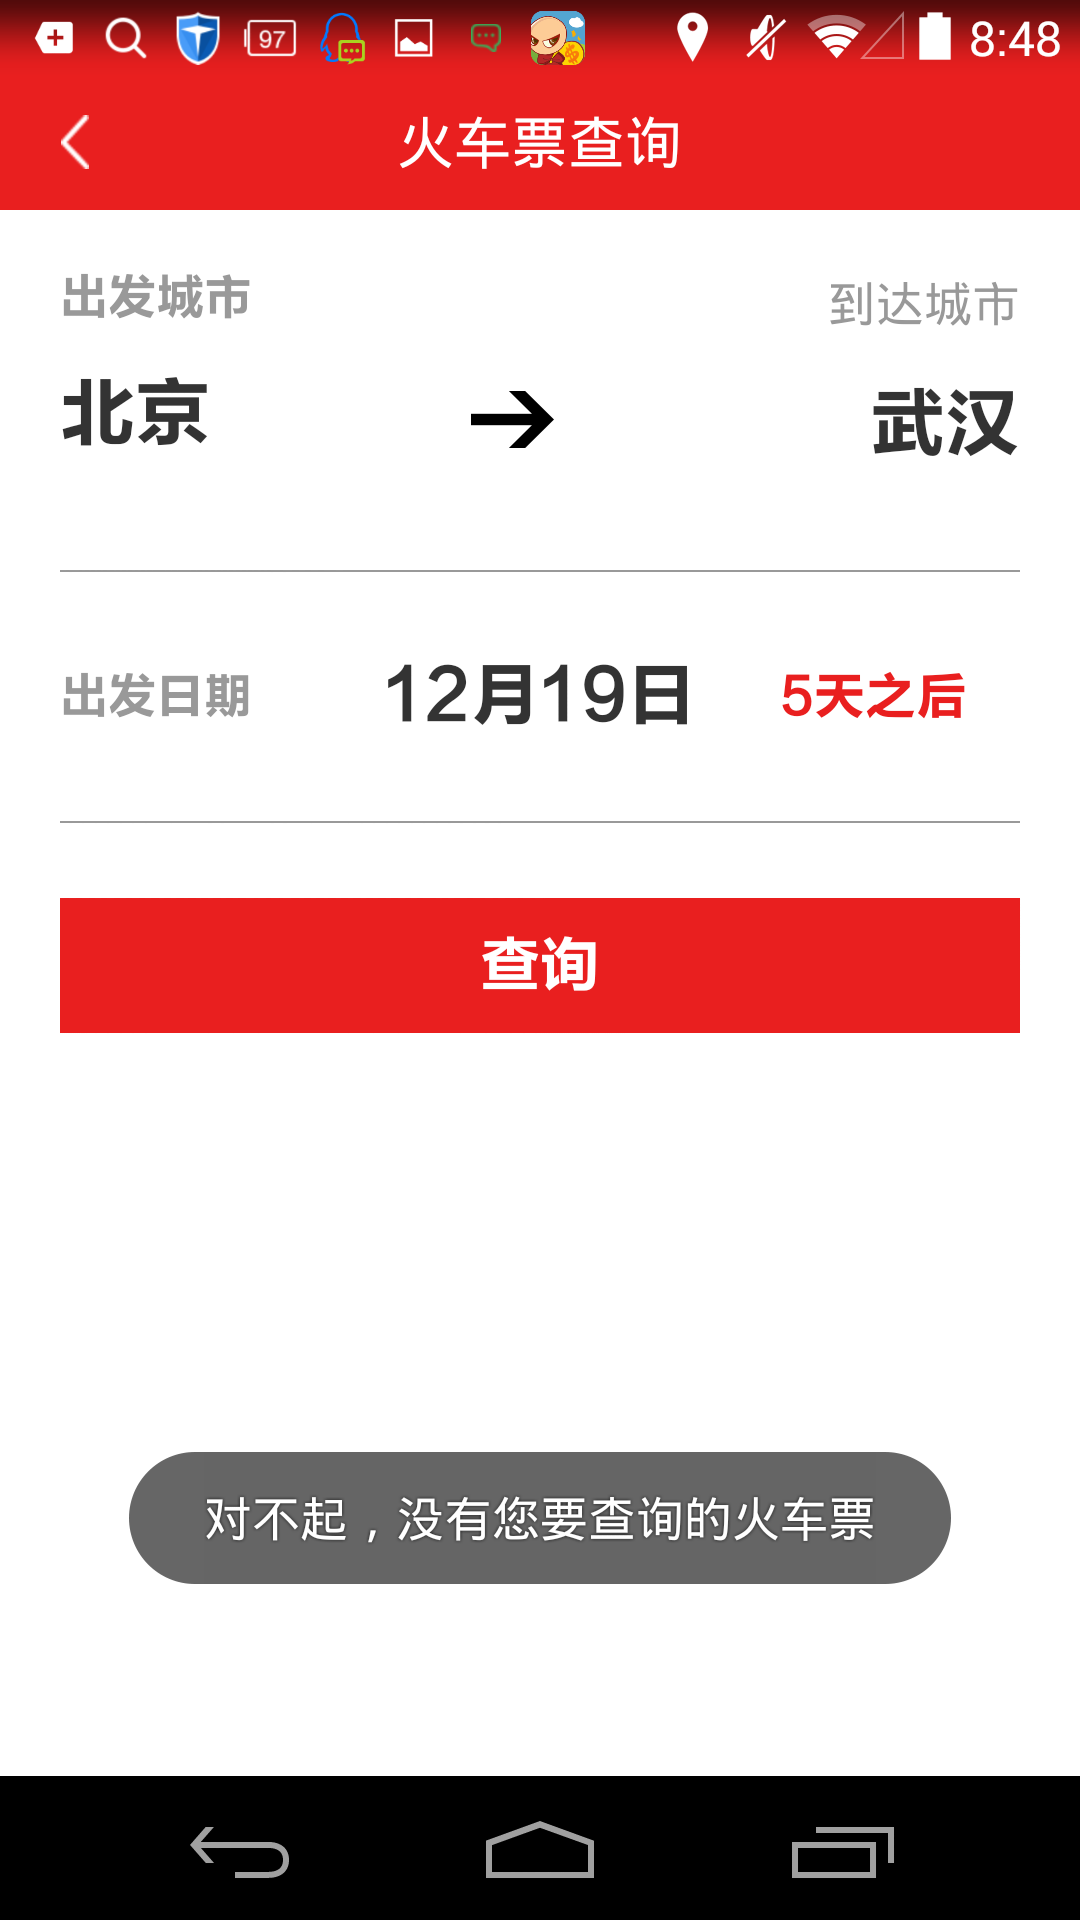alert: (100, 1435, 967, 1610)
button: (55, 889, 1029, 1043)
textview: (44, 241, 1050, 560)
